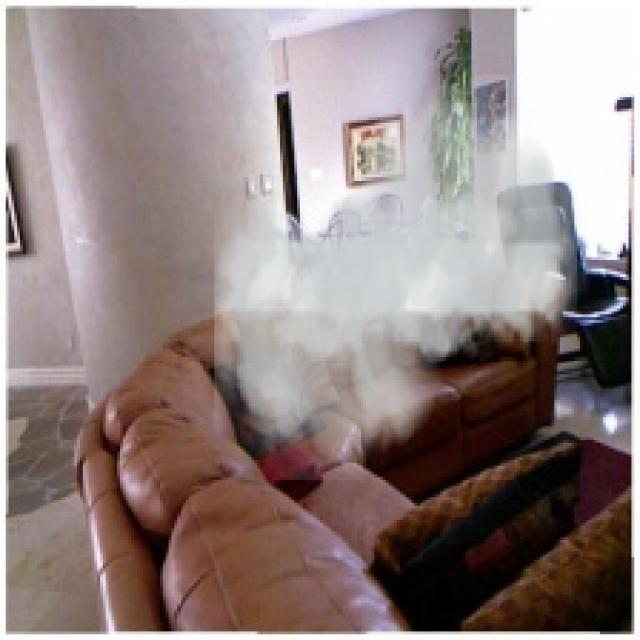Smoke: (214, 74, 577, 480)
